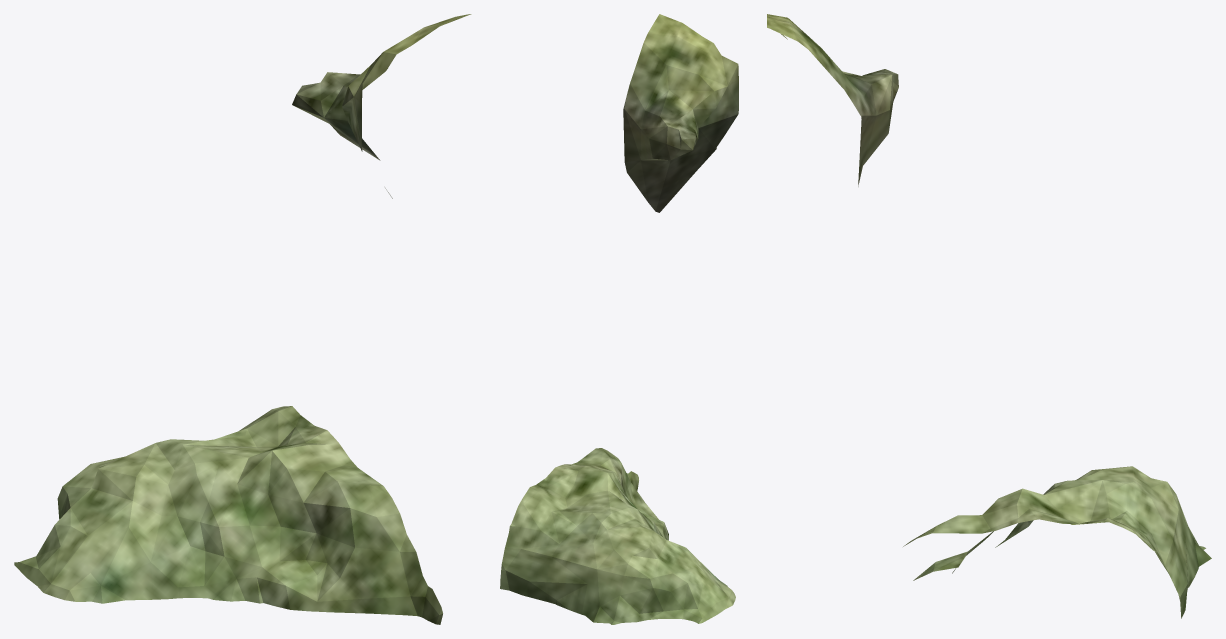
The picture shows the model from 3 angles, left to right: view 1: azimuth 30°, elevation 25°; view 2: azimuth 150°, elevation 25°; view 3: azimuth 270°, elevation 25°; orthographic projection. The views are drawn at different scales.
Size of the model in its own units: 1.8 by 4.12 by 2.78.
Materials: 1 (1 with a texture image).
